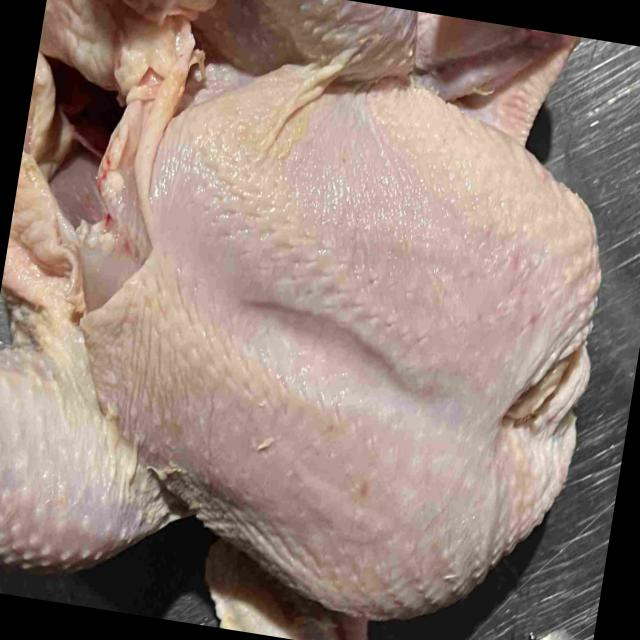breast: (51, 66, 601, 620)
leg: (0, 308, 175, 571), (199, 0, 418, 92)
wing: (417, 12, 580, 136), (206, 540, 367, 640)
